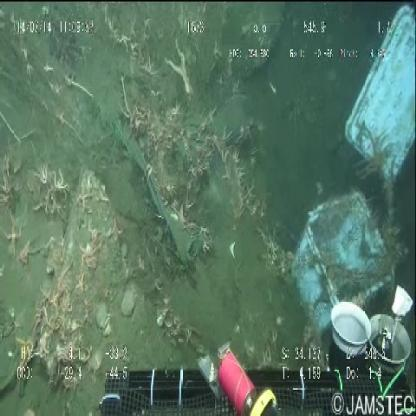Rov: (90, 285, 416, 414)
Rác: (281, 6, 414, 291)
